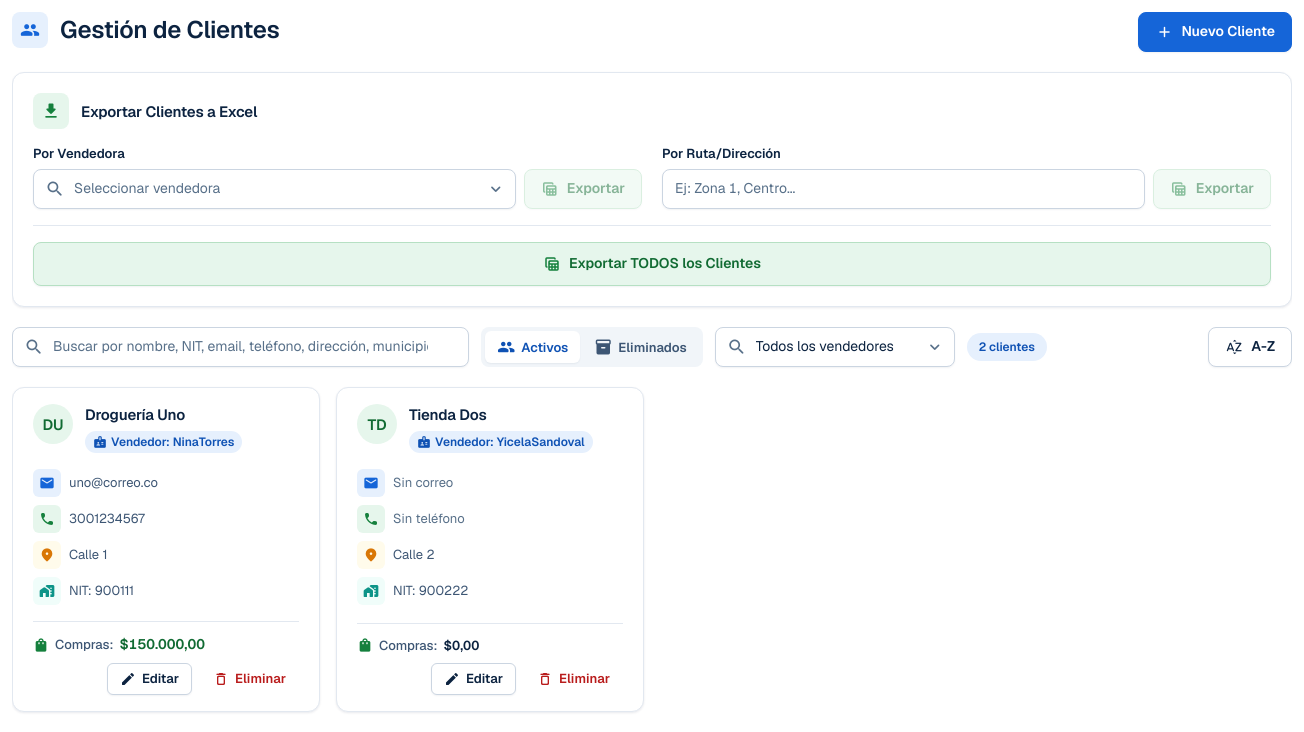
Test: Eliminados: pide status=archived, tarjeta "Archivado" sin Editar ni Eliminar; Restaurar → PATCH y vuelve a Activos
This screenshot has width=1304, height=732.
Check: the heading "Droguería Uno" is shown, box [85,404,185,425]
Click the tab "Eliminados": (640, 347) [582,331,699,363]
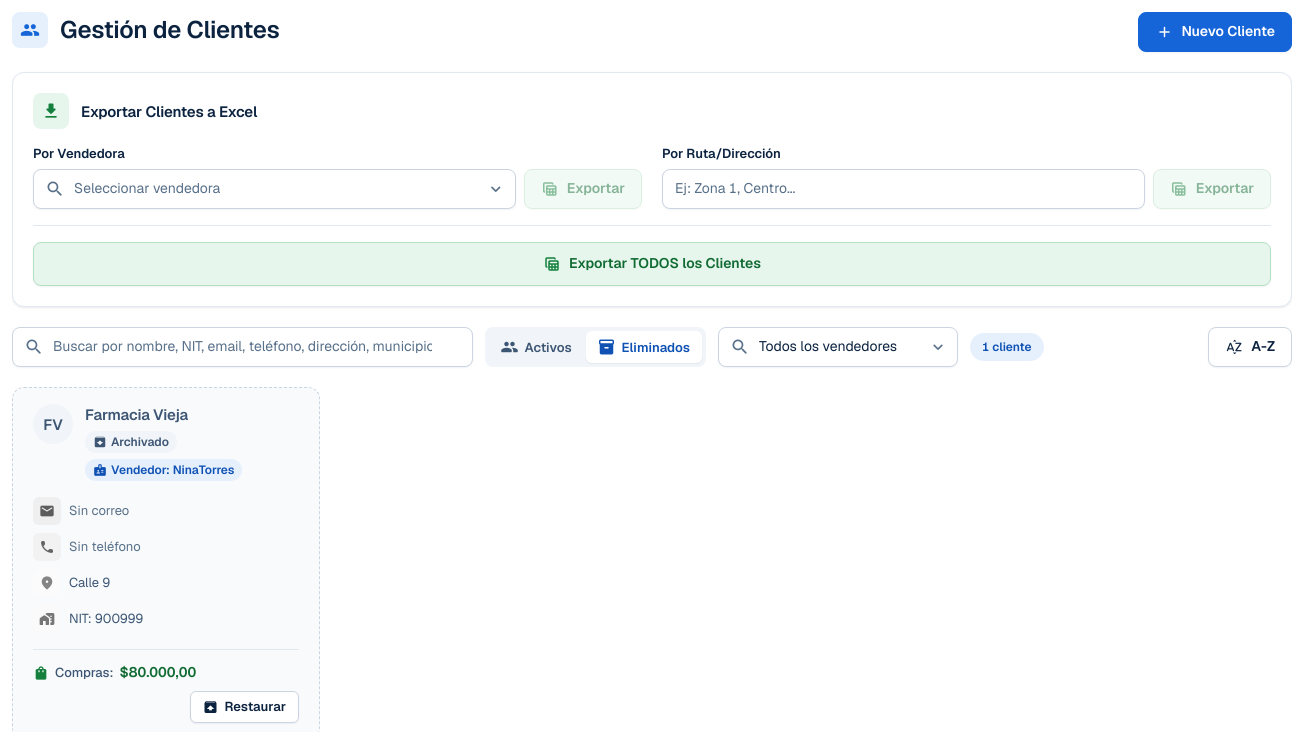
Check: the heading "Farmacia Vieja" is shown, box [85,404,188,425]
Check: the heading "Droguería Uno" is gone
Check: the text "Archivado" is shown, box [85,431,177,453]
Click the button with aria-label "Restaurar cliente Farmacia Vieja": (244, 707) [190,691,299,723]
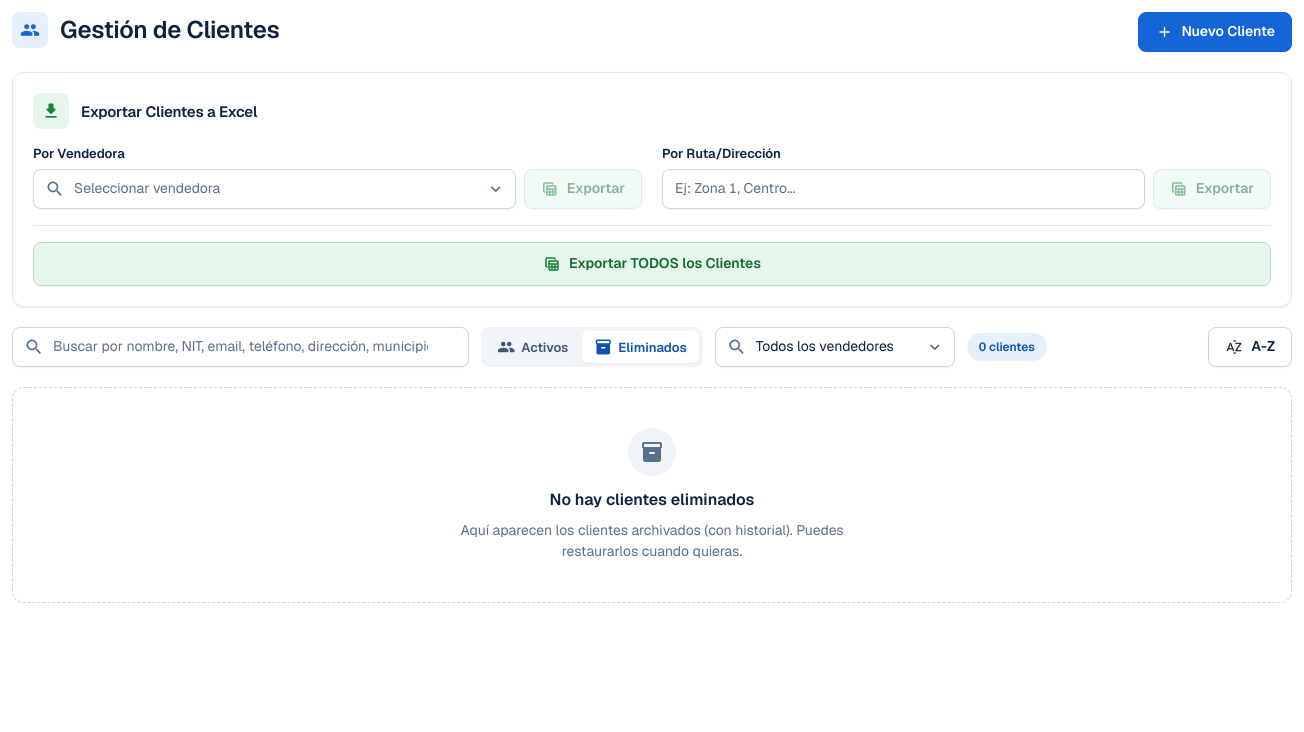
Check: the heading "Farmacia Vieja" is gone
Check: the text "No hay clientes eliminados" is shown, box [550,488,754,512]
Note: De vuelta en Activos aparece sin recargar la lista
Click the tab "Activos": (533, 347) [485,331,580,363]
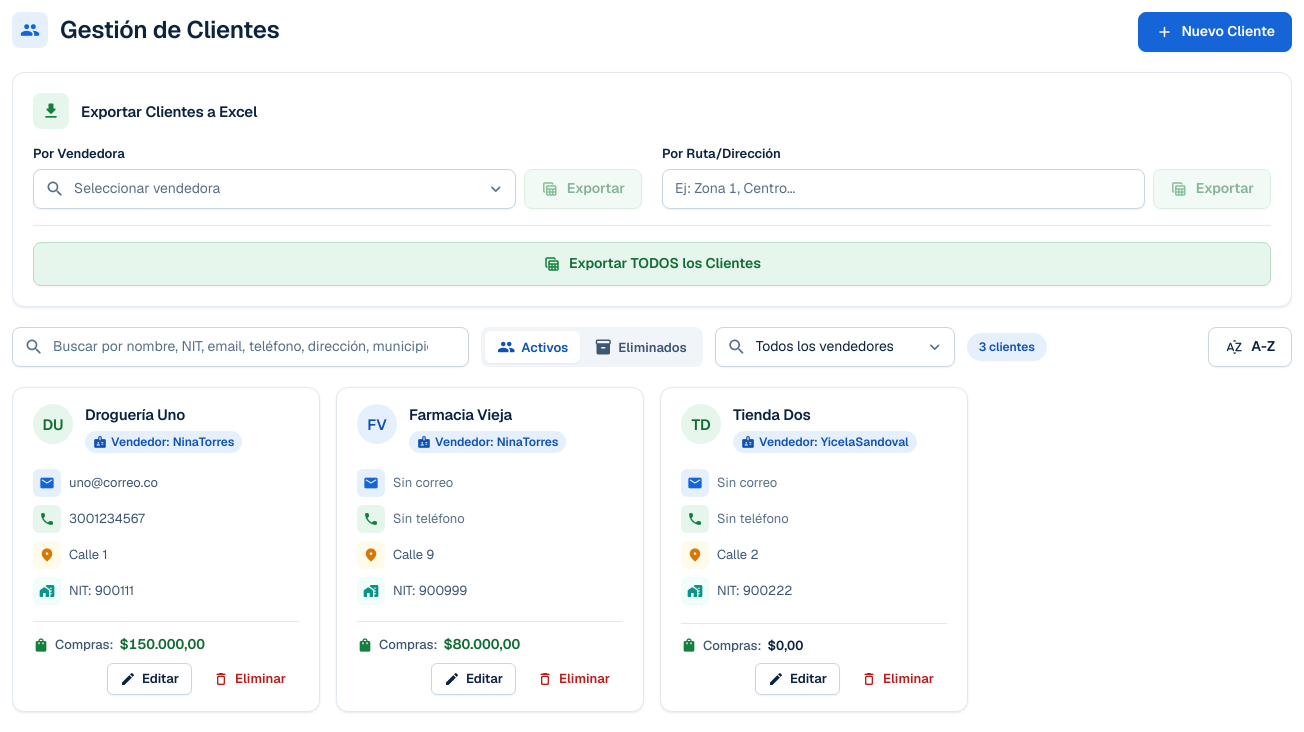
Check: the heading "Farmacia Vieja" is shown, box [409,404,512,425]
Check: the heading "Droguería Uno" is shown, box [85,404,185,425]
Check: the button with aria-label "Eliminar cliente Farmacia Vieja" is shown, box [524,663,623,695]
